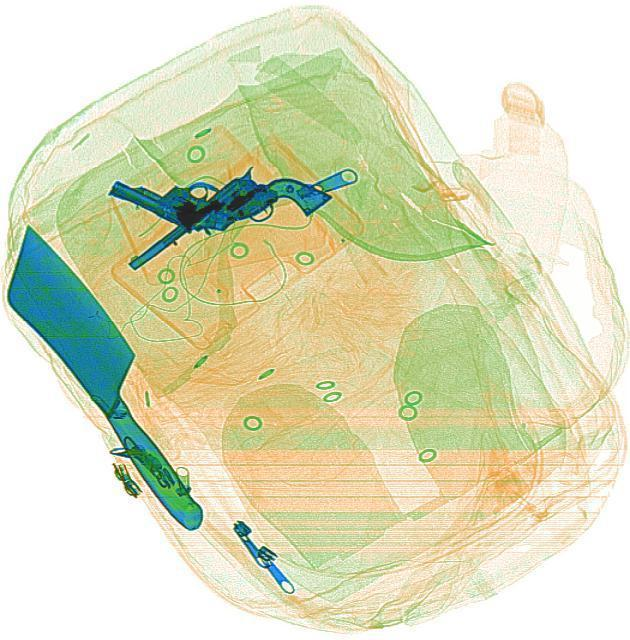Gun: (120, 139, 332, 313), (102, 110, 280, 274)
Knife: (0, 255, 245, 527)
